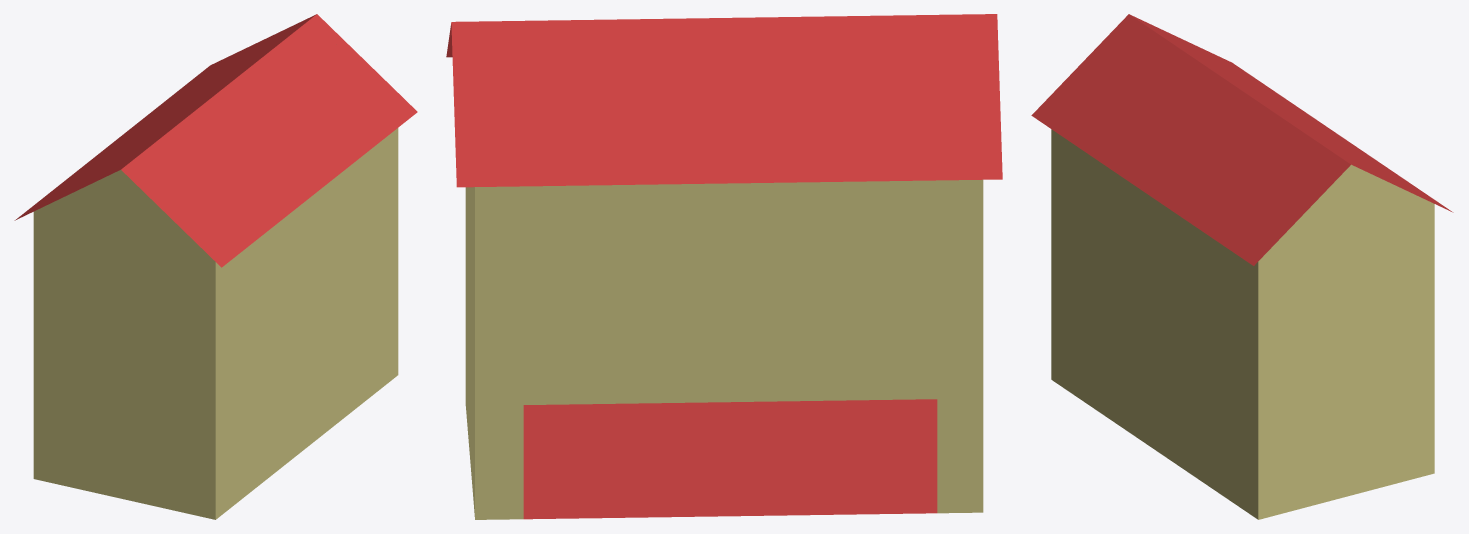
3 renders of one model, left to right at view 1: azimuth 30°, elevation 25°; view 2: azimuth 150°, elevation 25°; view 3: azimuth 270°, elevation 25°, orthographic. The views are drawn at different scales.
Size of the model in its own units: 16.56 by 14.54 by 12.82.
